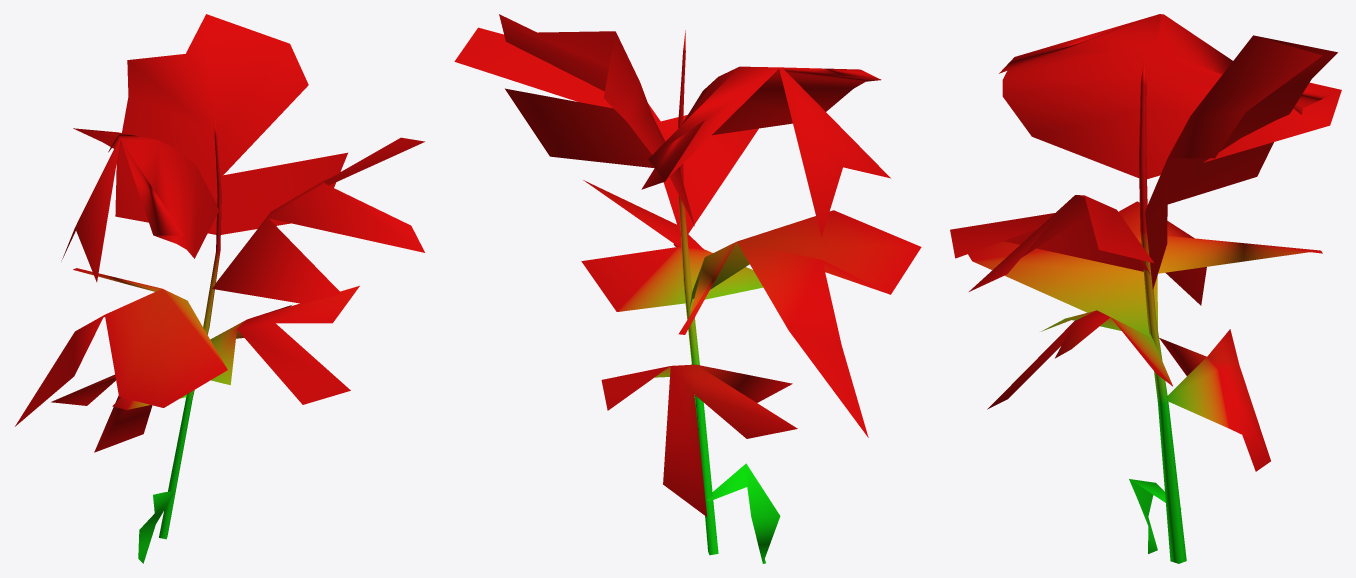
The model's file is Cane Palm_LOD2_Var4_siBmK.fbx.
The picture shows the model from 3 angles, left to right: view 1: azimuth 30°, elevation 25°; view 2: azimuth 150°, elevation 25°; view 3: azimuth 270°, elevation 25°; orthographic projection. The views are drawn at different scales.
Visible parts, largest first — view 1: _4aff_Var4_LOD2; view 2: _4aff_Var4_LOD2; view 3: _4aff_Var4_LOD2.
Boxes of the visible parts, left/top/right/bottom form: _4aff_Var4_LOD2: left=15, top=14, right=424, bottom=563; _4aff_Var4_LOD2: left=454, top=14, right=921, bottom=563; _4aff_Var4_LOD2: left=950, top=14, right=1341, bottom=563.
Size of the model in its own units: 16.14 by 19.41 by 11.9.
